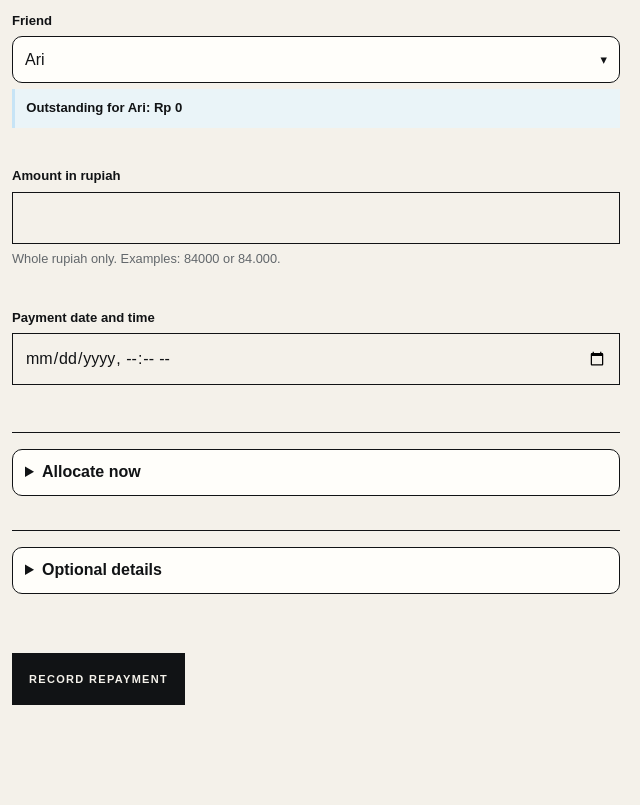
Test: RepaymentForm › searches descriptions and outing titles with a twenty-result cap and useful labels
Step 1. Click the heading "Allocate now" → (91, 472), box x1=12 y1=449 x2=620 y2=496
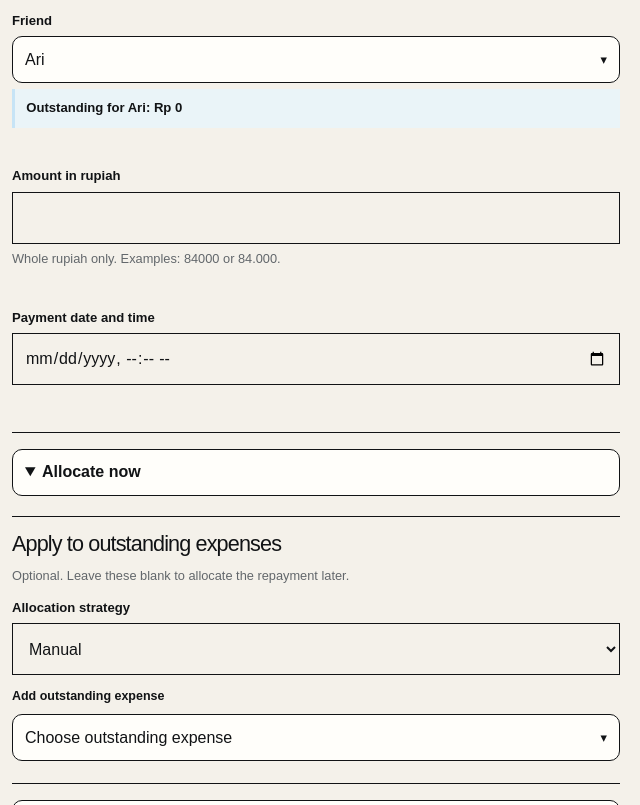
Step 2. Click the dropdown named "Add outstanding expense" → (129, 737), box x1=12 y1=714 x2=620 y2=761
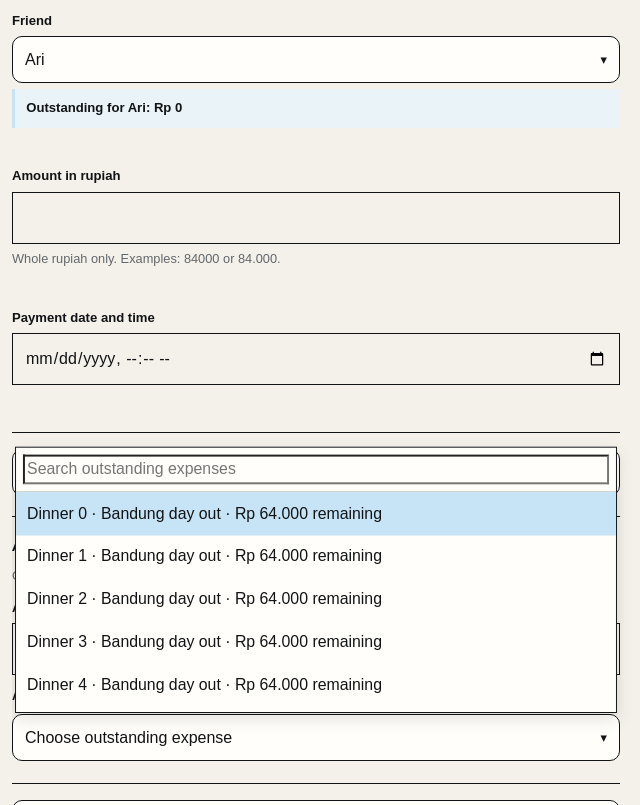
Step 3. Type "dinner 20" into the search field labelled "Search outstanding expenses" → (316, 470), box x1=23 y1=455 x2=609 y2=485
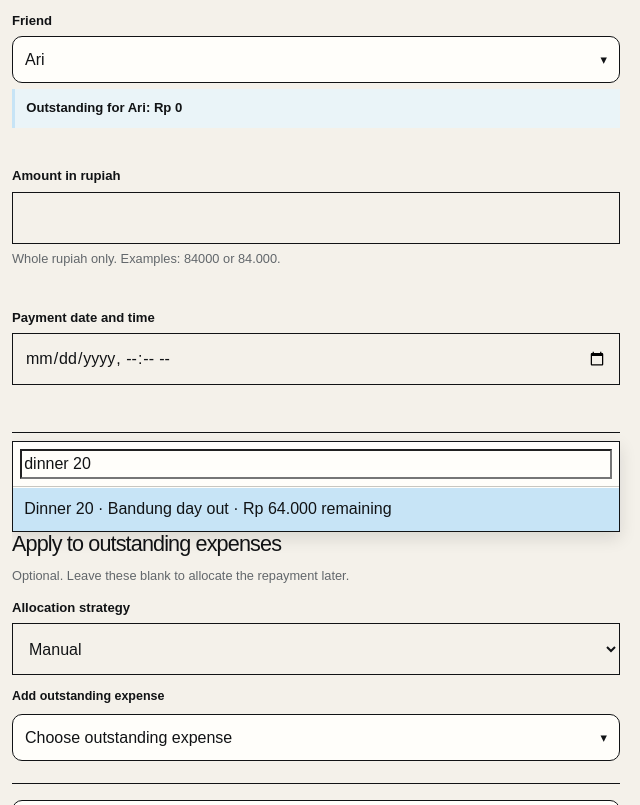
Now the option "Dinner 20 · Bandung day out · Rp 64.000 remaining" is shown, box x1=13 y1=488 x2=619 y2=531
Step 4. Replace the text in the search field named "Search outstanding expenses" with "bandung" → (316, 464), box x1=20 y1=449 x2=612 y2=479
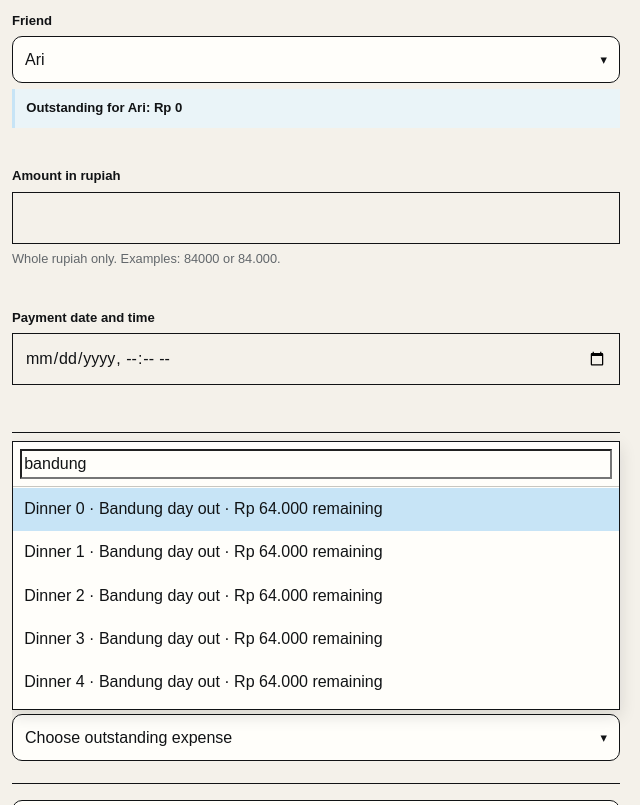
Now the option "Dinner 0 · Bandung day out · Rp 64.000 remaining" is shown, box x1=13 y1=488 x2=619 y2=531
